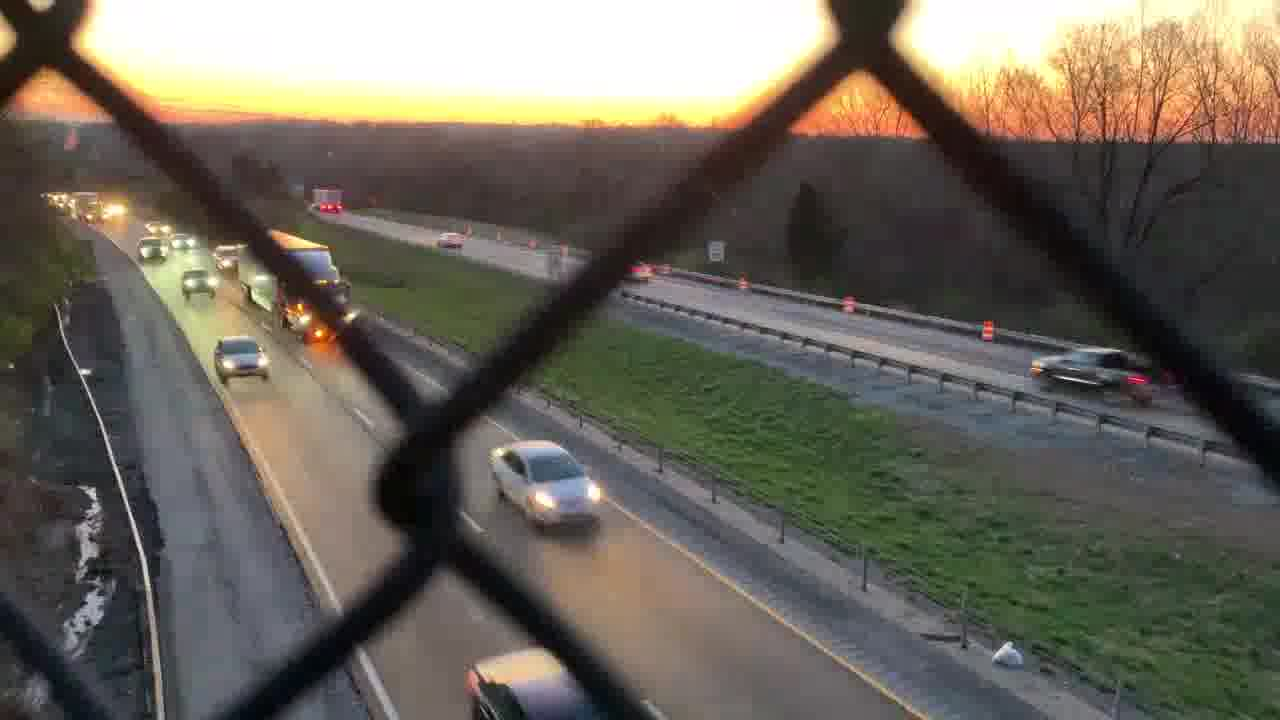heavyTruck: (236, 235, 357, 339)
lightTruck: (1029, 344, 1173, 405)
smallCar: (487, 436, 613, 530), (212, 334, 271, 384)
